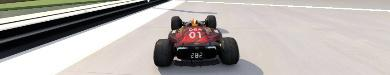Car: (152, 14, 239, 66)
obstacles-Borders: (0, 0, 174, 69)
